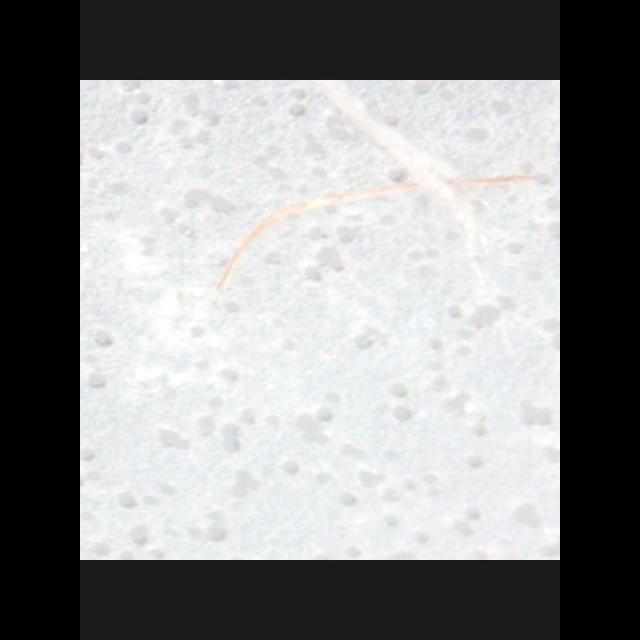Fibre: (198, 168, 548, 292)
